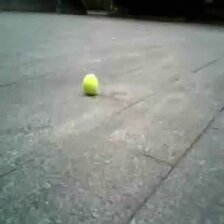tennis: (83, 74, 98, 92)
